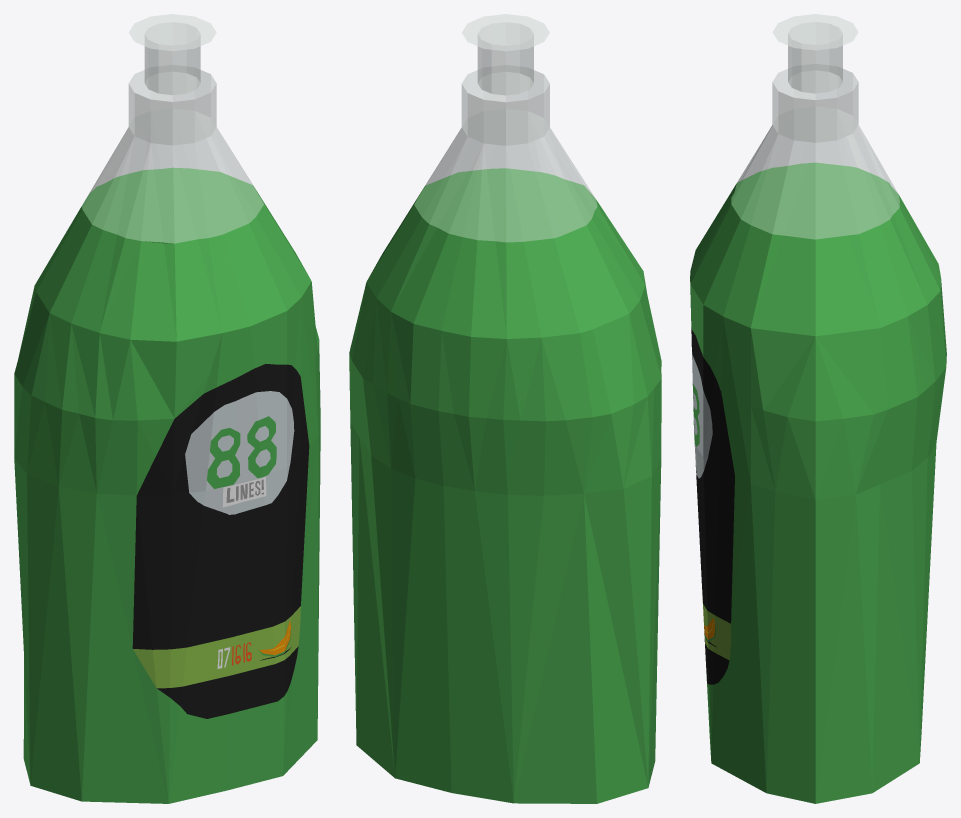
The model's file is shampoo.glb.
3 renders of one model, left to right at view 1: azimuth 30°, elevation 25°; view 2: azimuth 150°, elevation 25°; view 3: azimuth 270°, elevation 25°, orthographic. The views are drawn at different scales.
Visible parts, largest first — view 1: group1479783019; view 2: group1479783019; view 3: group1479783019.
Boxes of the visible parts, x1,y1,x2,y2 form: group1479783019: [14, 14, 320, 803]; group1479783019: [349, 14, 661, 803]; group1479783019: [690, 14, 946, 803].
Bounding box in the file's own units: 1.07 × 2.52 × 0.8336.
